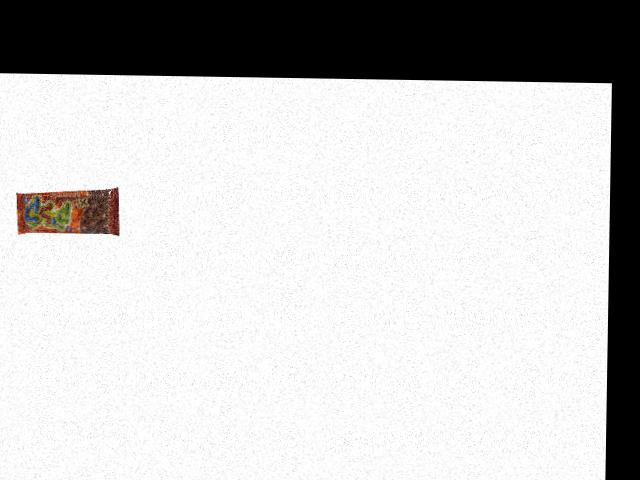chocolate: (15, 188, 120, 236)
